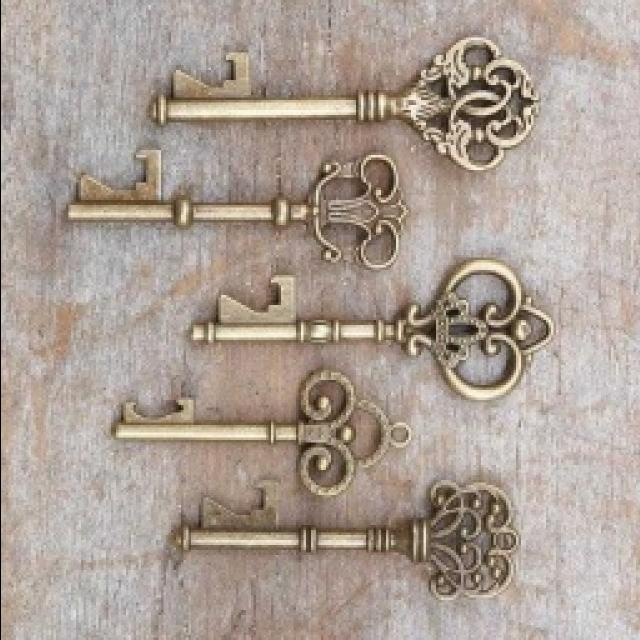anahtar: (18, 369, 424, 500)
